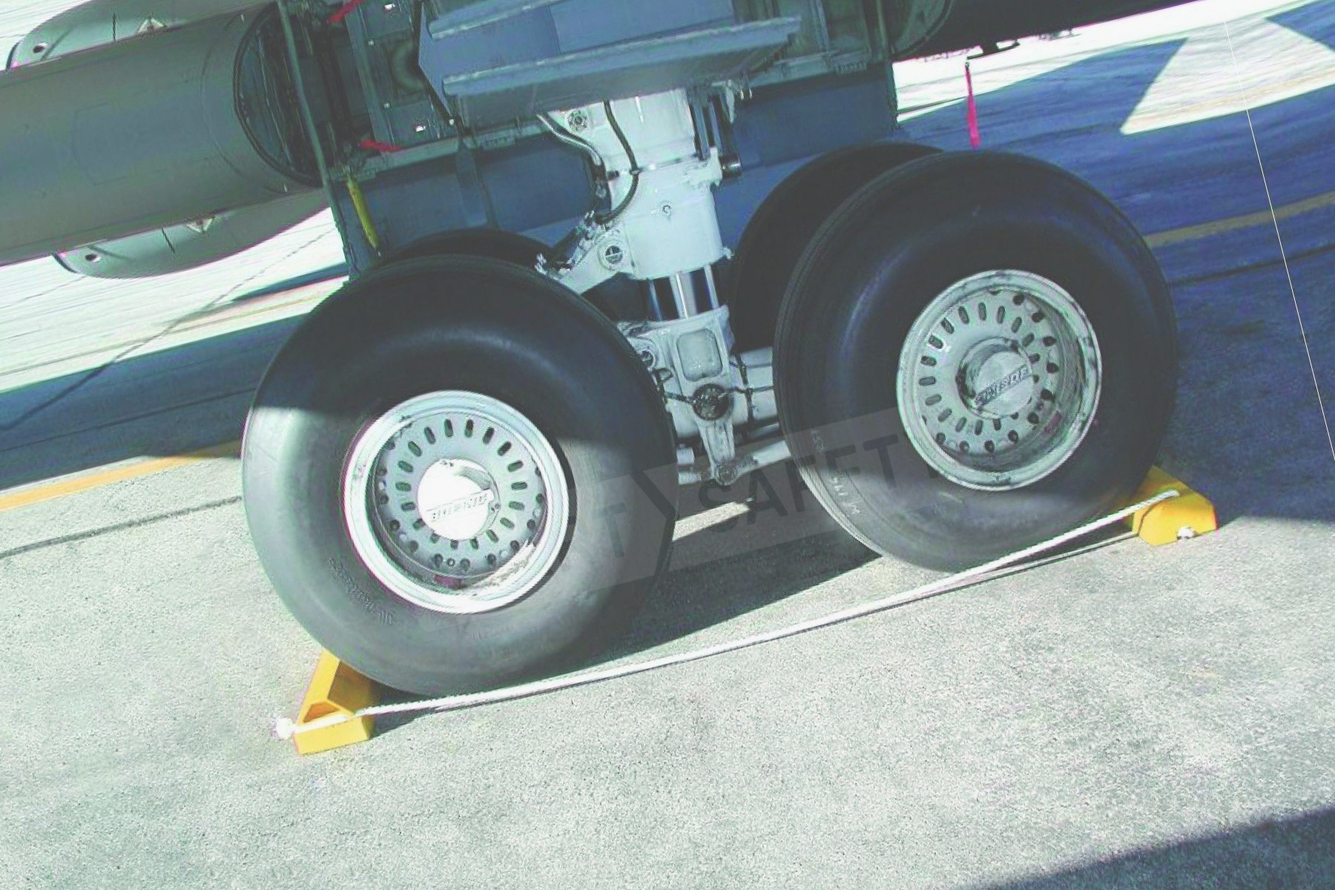chock: (267, 603, 401, 759), (1096, 419, 1228, 560)
wheel: (191, 200, 712, 731), (721, 103, 1217, 601), (693, 122, 981, 356), (360, 200, 565, 307)
